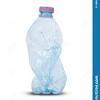BIODEGRADABLE: (24, 4, 69, 95)
